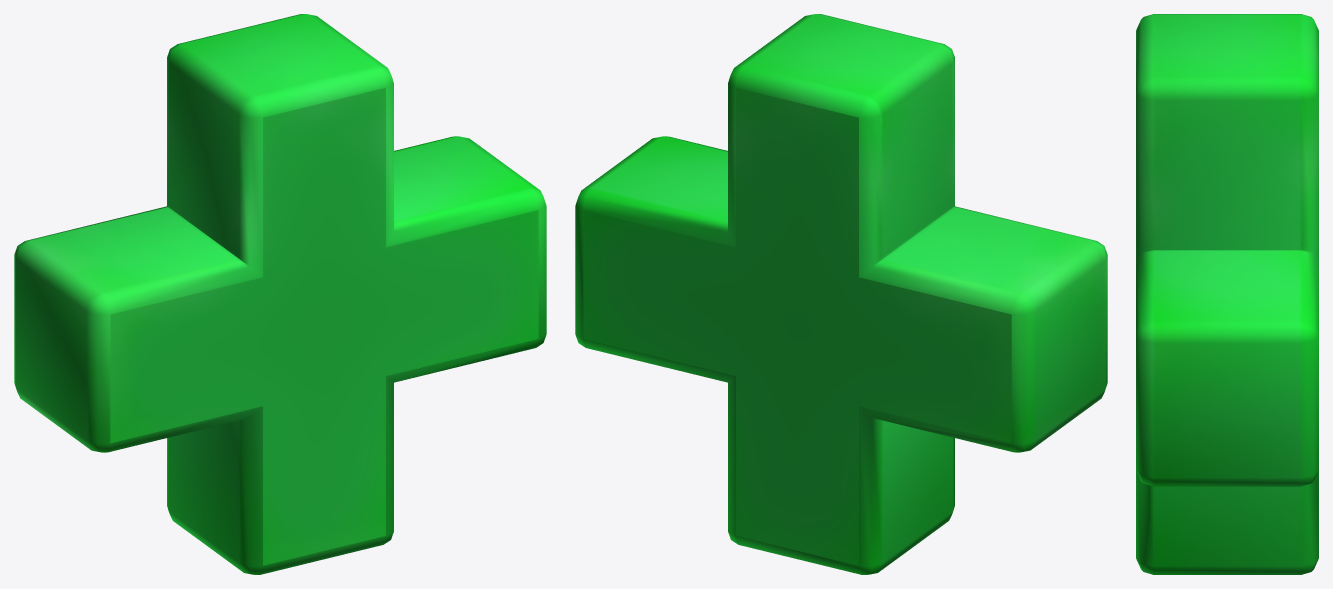
Rendered from Health.fbx.
3 views of the same model, side by side, from view 1: azimuth 30°, elevation 25°; view 2: azimuth 150°, elevation 25°; view 3: azimuth 270°, elevation 25° (orthographic). The views are drawn at different scales.
Visible parts, largest first — view 1: Health; view 2: Health; view 3: Health.
Boxes of the visible parts, x1=… form: Health: x1=14, y1=14, x2=546, y2=574; Health: x1=575, y1=14, x2=1107, y2=574; Health: x1=1136, y1=14, x2=1318, y2=574.
Size of the model in its own units: 1 by 1 by 0.3336.
